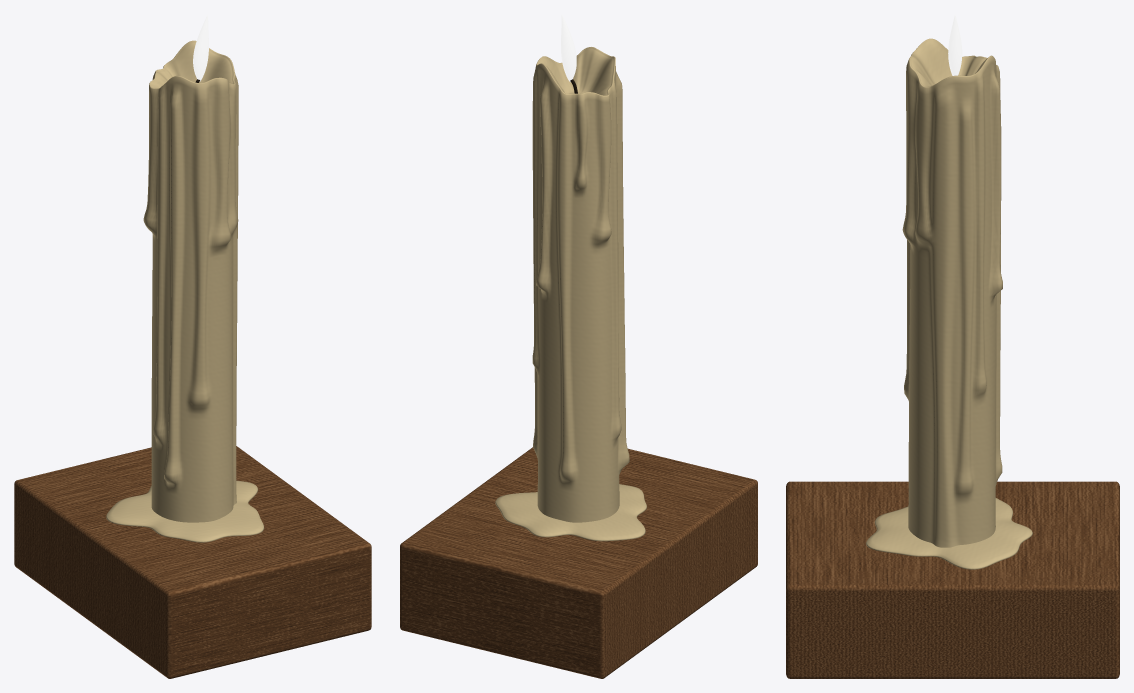
Rendered from cirio_4.gltf.
3 views of the same model, side by side, from view 1: azimuth 30°, elevation 25°; view 2: azimuth 150°, elevation 25°; view 3: azimuth 270°, elevation 25° (orthographic). The views are drawn at different scales.
Parts seen in each view (by area): view 1: base_madera_individual, cera_4, cera_acumulada_4, llama_4; view 2: base_madera_individual, cera_4, cera_acumulada_4, llama_4; view 3: base_madera_individual, cera_4, cera_acumulada_4, llama_4.
Boxes of the visible parts, left/top/right/bottom form: base_madera_individual: left=14, top=446, right=371, bottom=678; cera_4: left=143, top=40, right=238, bottom=522; cera_acumulada_4: left=106, top=480, right=264, bottom=542; llama_4: left=193, top=14, right=208, bottom=81; base_madera_individual: left=400, top=447, right=757, bottom=678; cera_4: left=532, top=47, right=629, bottom=522; cera_acumulada_4: left=495, top=484, right=646, bottom=541; llama_4: left=561, top=15, right=576, bottom=81; base_madera_individual: left=786, top=481, right=1119, bottom=678; cera_4: left=902, top=38, right=1002, bottom=547; cera_acumulada_4: left=866, top=498, right=1032, bottom=569; llama_4: left=948, top=14, right=962, bottom=75.
Bounding box in the file's own units: 0.11 × 0.298 × 0.145.
4 materials, 2 textured.
